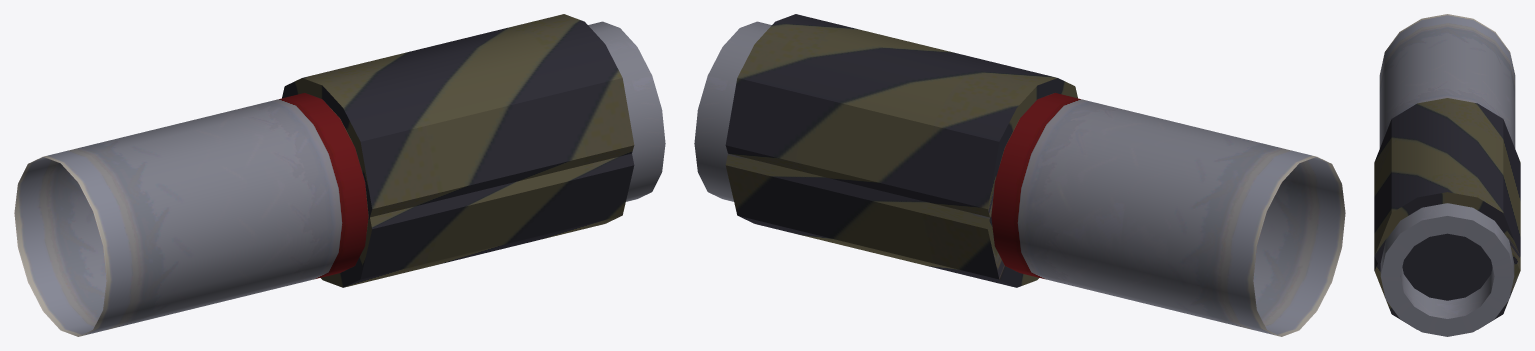
File: mdlThruster.fbx
The picture shows the model from 3 angles, left to right: view 1: azimuth 30°, elevation 25°; view 2: azimuth 150°, elevation 25°; view 3: azimuth 270°, elevation 25°; orthographic projection. The views are drawn at different scales.
Visible parts, largest first — view 1: Engine.001; view 2: Engine.001; view 3: Engine.001.
Boxes of the visible parts, x1,y1,x2,y2 form: Engine.001: (14, 14, 665, 336); Engine.001: (694, 14, 1345, 336); Engine.001: (1374, 14, 1520, 336).
Size of the model in its own units: 1.97 by 0.6537 by 0.6039.
1 material, 1 textured.
